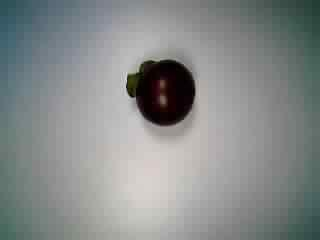mangosteen: (122, 56, 199, 131)
